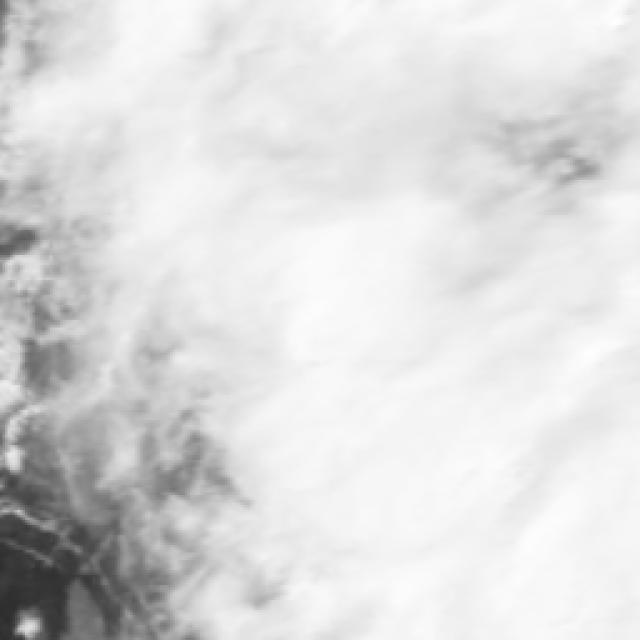CB: (414, 324, 640, 555), (235, 160, 461, 366), (437, 182, 640, 407), (394, 13, 629, 206), (153, 310, 380, 502), (181, 465, 423, 640), (397, 482, 640, 637), (62, 8, 268, 180), (68, 167, 272, 326), (342, 332, 484, 506), (266, 12, 405, 188)
